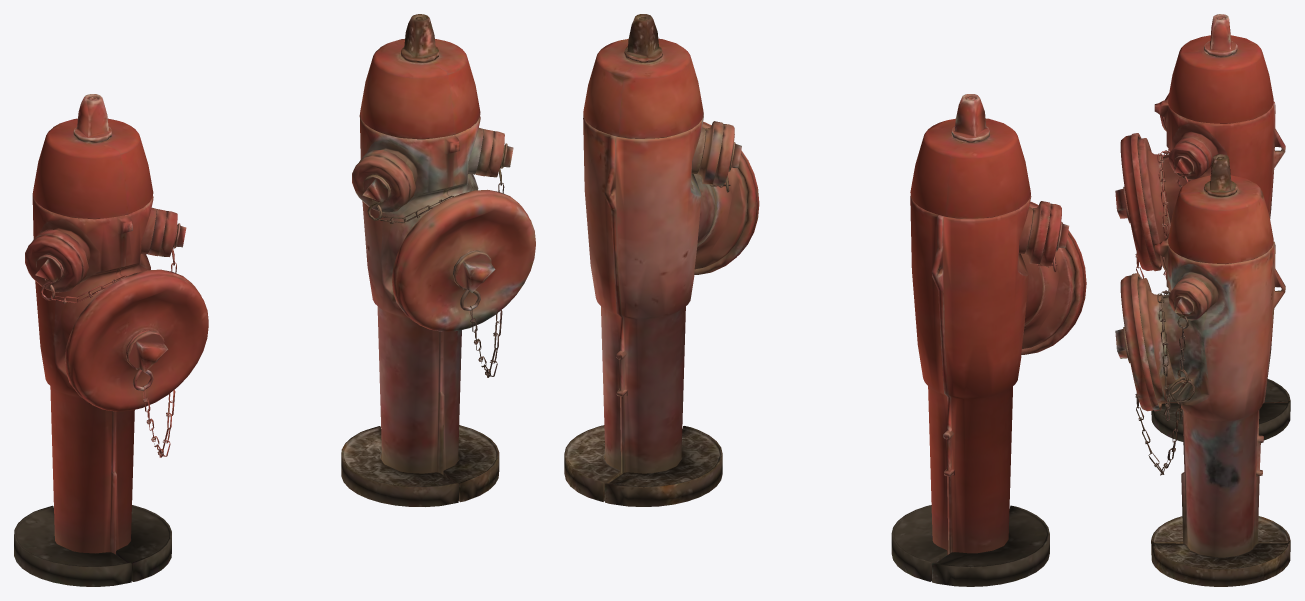
The model's file is fire_hydrant.glb.
3 views of the same model, side by side, from view 1: azimuth 30°, elevation 25°; view 2: azimuth 150°, elevation 25°; view 3: azimuth 270°, elevation 25° (orthographic). The views are drawn at different scales.
Parts seen in each view (by area): view 1: fire_hydrant, fire_hydrant_aged; view 2: fire_hydrant_aged, fire_hydrant; view 3: fire_hydrant_aged, fire_hydrant.
Part boxes in pixels (x1,y1,x2,y2): fire_hydrant: (14,94,208,586); fire_hydrant_aged: (341,14,535,506); fire_hydrant_aged: (564,14,759,506); fire_hydrant: (891,94,1086,586); fire_hydrant_aged: (1115,154,1290,586); fire_hydrant: (1115,14,1290,441).
Size of the model in its own units: 0.8745 by 0.7994 by 0.3173.
Materials: 2 (2 with a texture image).
